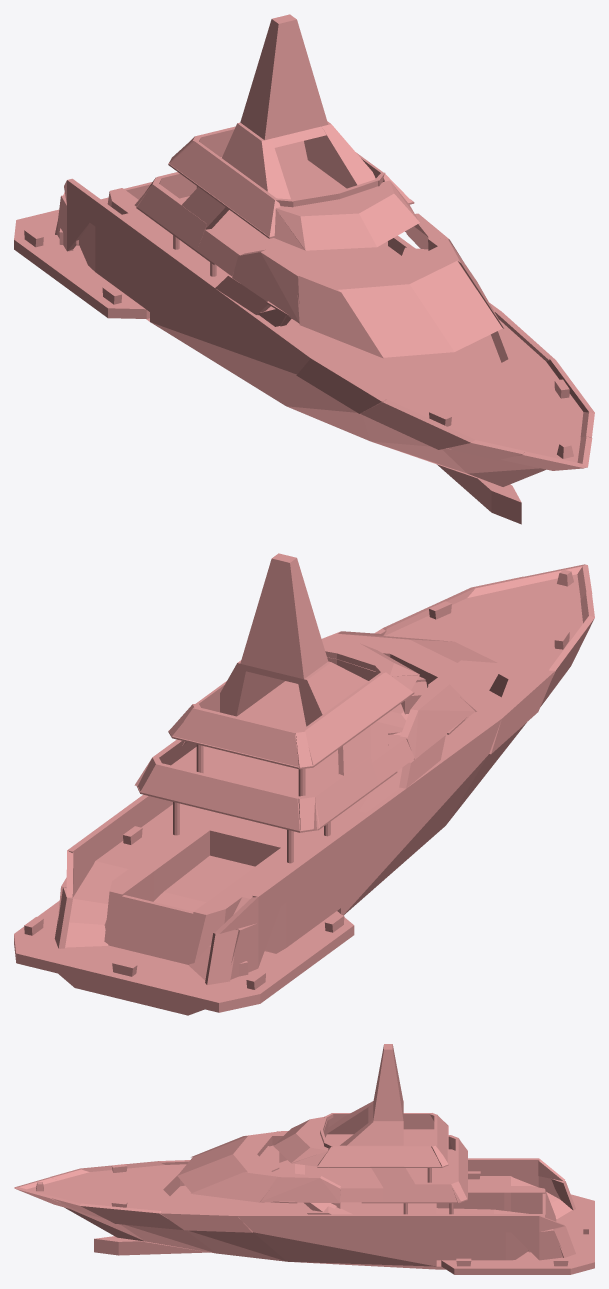
File: SM_Veh_Super_Yacht_01_Collision.fbx
3 views of the same model, one above another, from view 1: azimuth 30°, elevation 25°; view 2: azimuth 150°, elevation 25°; view 3: azimuth 270°, elevation 25° (orthographic). The views are drawn at different scales.
Visible parts, largest first — view 1: SM_Veh_Super_Yacht_01_Collision; view 2: SM_Veh_Super_Yacht_01_Collision; view 3: SM_Veh_Super_Yacht_01_Collision.
Boxes of the visible parts, left/top/right/bottom form: SM_Veh_Super_Yacht_01_Collision: left=14, top=14, right=594, bottom=524; SM_Veh_Super_Yacht_01_Collision: left=14, top=553, right=594, bottom=1015; SM_Veh_Super_Yacht_01_Collision: left=14, top=1044, right=594, bottom=1274.
Bounding box in the file's own units: 1225 × 1576 × 4038.
